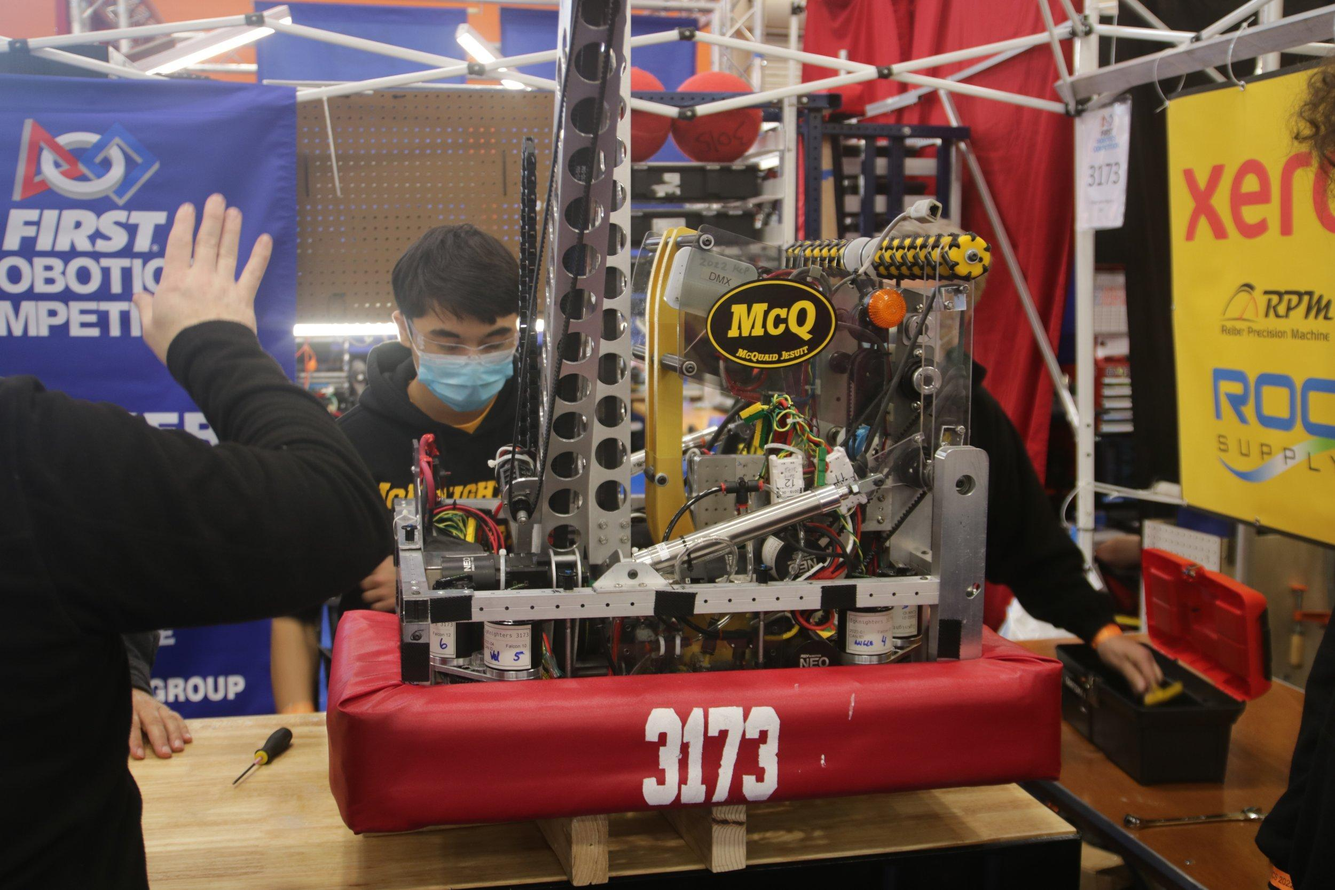robot: (320, 0, 1081, 837)
